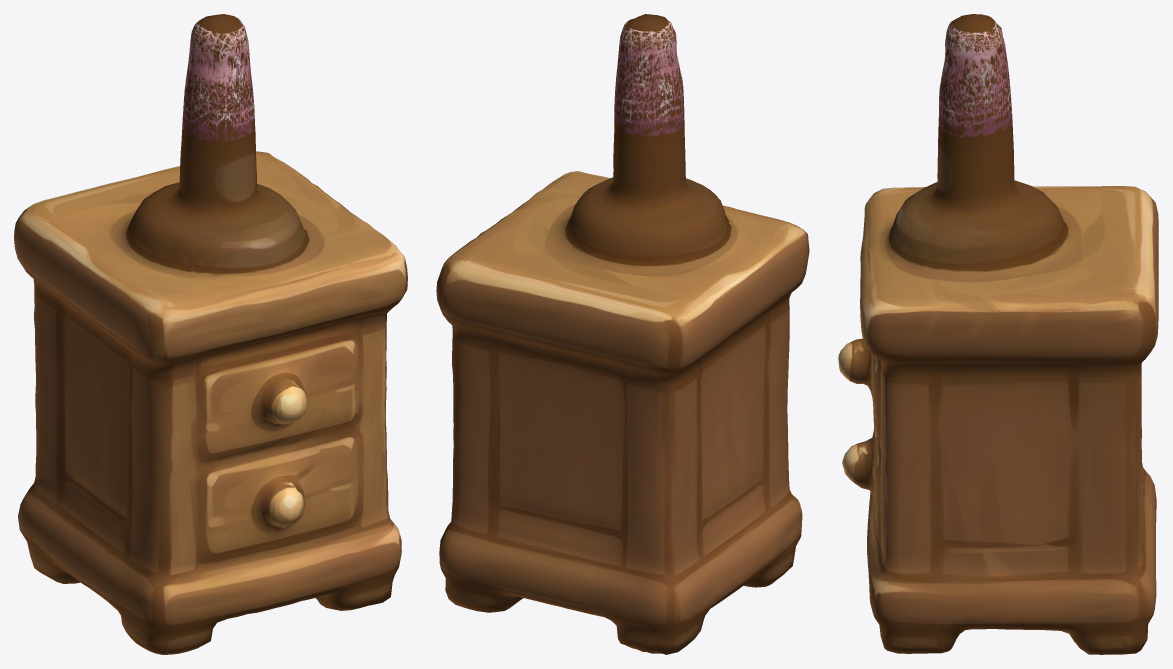
The model's file is Wood_nightstand.glb.
The picture shows the model from 3 angles, left to right: view 1: azimuth 30°, elevation 25°; view 2: azimuth 150°, elevation 25°; view 3: azimuth 270°, elevation 25°; orthographic projection. The views are drawn at different scales.
Visible parts, largest first — view 1: RETOPO; view 2: RETOPO; view 3: RETOPO.
Boxes of the visible parts, <box> form: RETOPO: <box>14,14,407,654</box>; RETOPO: <box>436,14,809,654</box>; RETOPO: <box>838,14,1158,654</box>.
Bounding box in the file's own units: 0.4563 × 0.9652 × 0.4826.
Materials: 1 (1 with a texture image).
